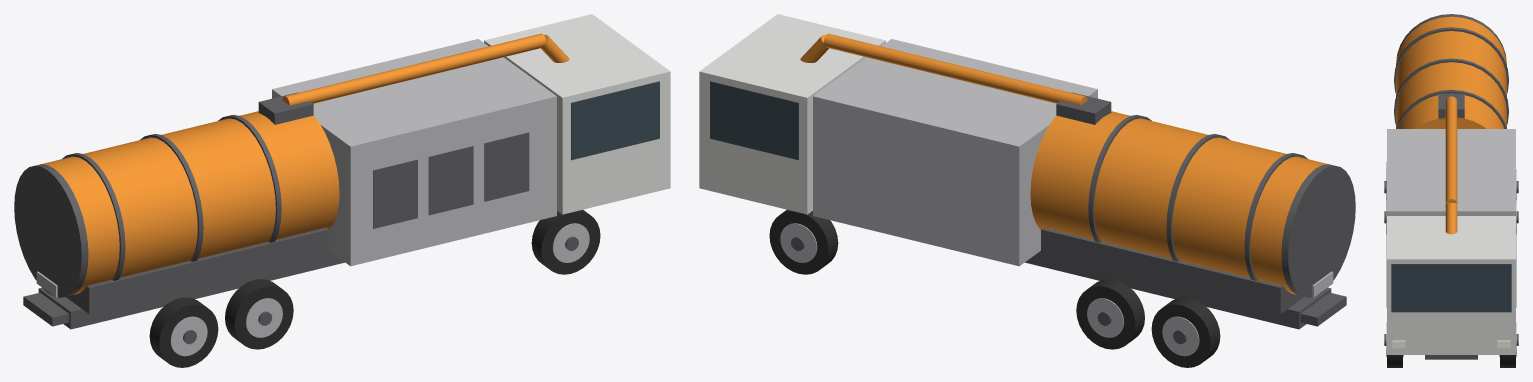
File: SM_VacuumTruck.fbx
The picture shows the model from 3 angles, left to right: view 1: azimuth 30°, elevation 25°; view 2: azimuth 150°, elevation 25°; view 3: azimuth 270°, elevation 25°; orthographic projection. The views are drawn at different scales.
Parts seen in each view (by area): view 1: VT_Chassis, VT_DebrisBody, VT_RearDoor, VT_Boom, VT_Wheel_A2R, VT_Wheel_A3R, VT_Wheel_A1R; view 2: VT_Chassis, VT_DebrisBody, VT_RearDoor, VT_Boom, VT_Wheel_A2L, VT_Wheel_A3L, VT_Wheel_A1L; view 3: VT_Chassis, VT_DebrisBody, VT_Boom, VT_RearDoor, VT_Wheel_A1L, VT_Wheel_A1R.
Boxes of the visible parts, left/top/right/bottom form: VT_Chassis: left=23, top=14, right=670, bottom=329; VT_DebrisBody: left=42, top=92, right=339, bottom=314; VT_RearDoor: left=14, top=164, right=88, bottom=297; VT_Boom: left=282, top=33, right=569, bottom=105; VT_Wheel_A2R: left=225, top=279, right=293, bottom=349; VT_Wheel_A3R: left=149, top=297, right=218, bottom=367; VT_Wheel_A1R: left=531, top=209, right=600, bottom=274; VT_Chassis: left=699, top=14, right=1346, bottom=329; VT_DebrisBody: left=1030, top=92, right=1327, bottom=314; VT_RearDoor: left=1281, top=164, right=1355, bottom=297; VT_Boom: left=800, top=33, right=1087, bottom=105; VT_Wheel_A2L: left=1076, top=279, right=1144, bottom=349; VT_Wheel_A3L: left=1151, top=297, right=1220, bottom=367; VT_Wheel_A1L: left=769, top=209, right=838, bottom=274; VT_Chassis: left=1386, top=129, right=1516, bottom=359; VT_DebrisBody: left=1394, top=16, right=1508, bottom=128; VT_Boom: left=1445, top=96, right=1457, bottom=234; VT_RearDoor: left=1396, top=14, right=1506, bottom=65; VT_Wheel_A1L: left=1499, top=322, right=1518, bottom=367; VT_Wheel_A1R: left=1384, top=322, right=1403, bottom=367.
Size of the model in its own units: 1066 by 357 by 255.
